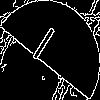I: (25, 24, 58, 70)
